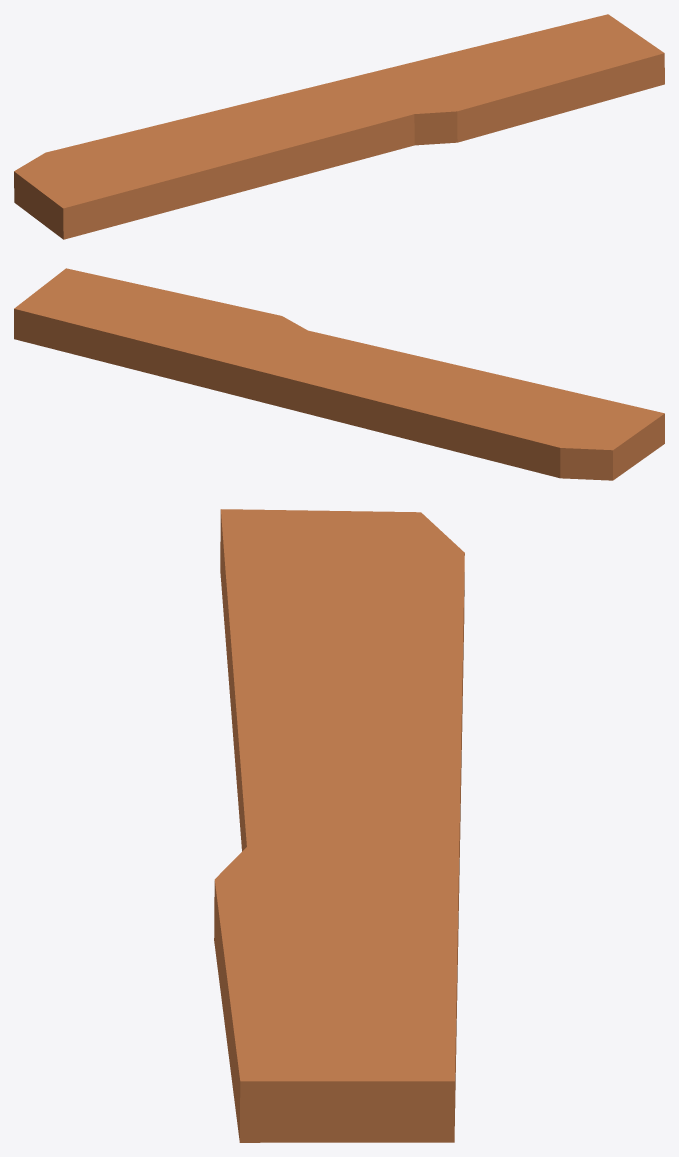
File: wood_plank_01_broken.fbx
3 views of the same model, one above another, from view 1: azimuth 30°, elevation 25°; view 2: azimuth 150°, elevation 25°; view 3: azimuth 270°, elevation 25° (orthographic). The views are drawn at different scales.
Visible parts, largest first — view 1: wood_plank_01_Part_1, wood_plank_01_Part_4, wood_plank_01_Part_3, wood_plank_01_Part_2; view 2: wood_plank_01_Part_1, wood_plank_01_Part_4, wood_plank_01_Part_2, wood_plank_01_Part_3; view 3: wood_plank_01_Part_1, wood_plank_01_Part_4, wood_plank_01_Part_2, wood_plank_01_Part_3.
Part boxes in pixels (x1,y1,x2,y2): wood_plank_01_Part_1: (347,14,664,147); wood_plank_01_Part_4: (167,78,406,204); wood_plank_01_Part_3: (14,160,166,239); wood_plank_01_Part_2: (32,123,195,211); wood_plank_01_Part_1: (14,268,315,403); wood_plank_01_Part_4: (267,332,529,448); wood_plank_01_Part_2: (442,382,582,478); wood_plank_01_Part_3: (564,390,664,480); wood_plank_01_Part_1: (214,835,459,1142); wood_plank_01_Part_4: (230,637,462,892); wood_plank_01_Part_2: (228,536,464,713); wood_plank_01_Part_3: (220,509,446,667).
Bounding box in the file's own units: 196 × 11.01 × 35.77.
Materials: 1 (1 with a texture image).
